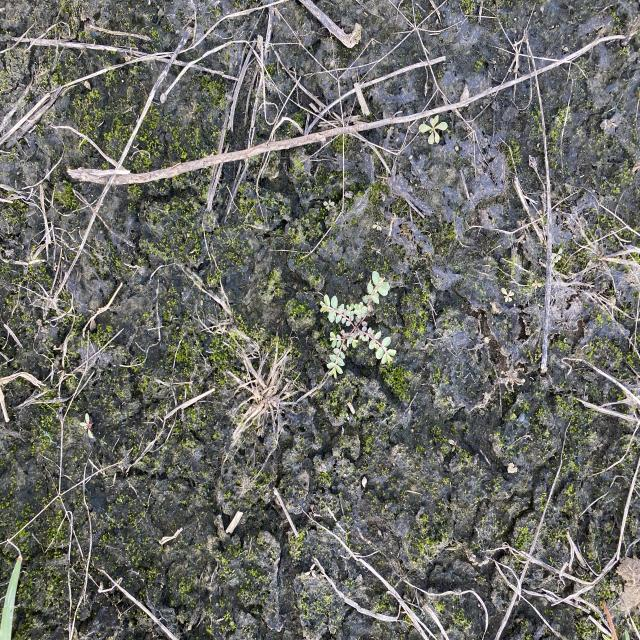Carpetweed: (417, 113, 449, 147)
SpottedSpurge: (319, 270, 398, 381)
